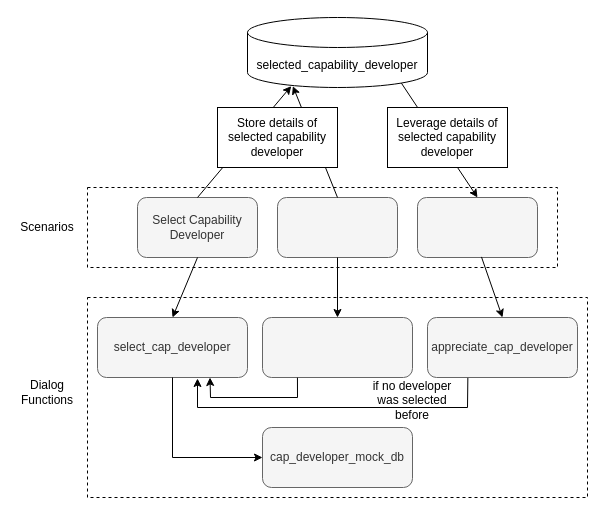
The diagram is 605 pixels wide and 515 high, and some of its shapes have lost their labels. The shapes that lost their labels are listed below. From the top down, each one's centre as x and y in pixels, then its label:
point (337, 227): Show Capability Developer Info
point (477, 227): Appreciate Capability Developer
point (337, 347): show_cap_developer_info
